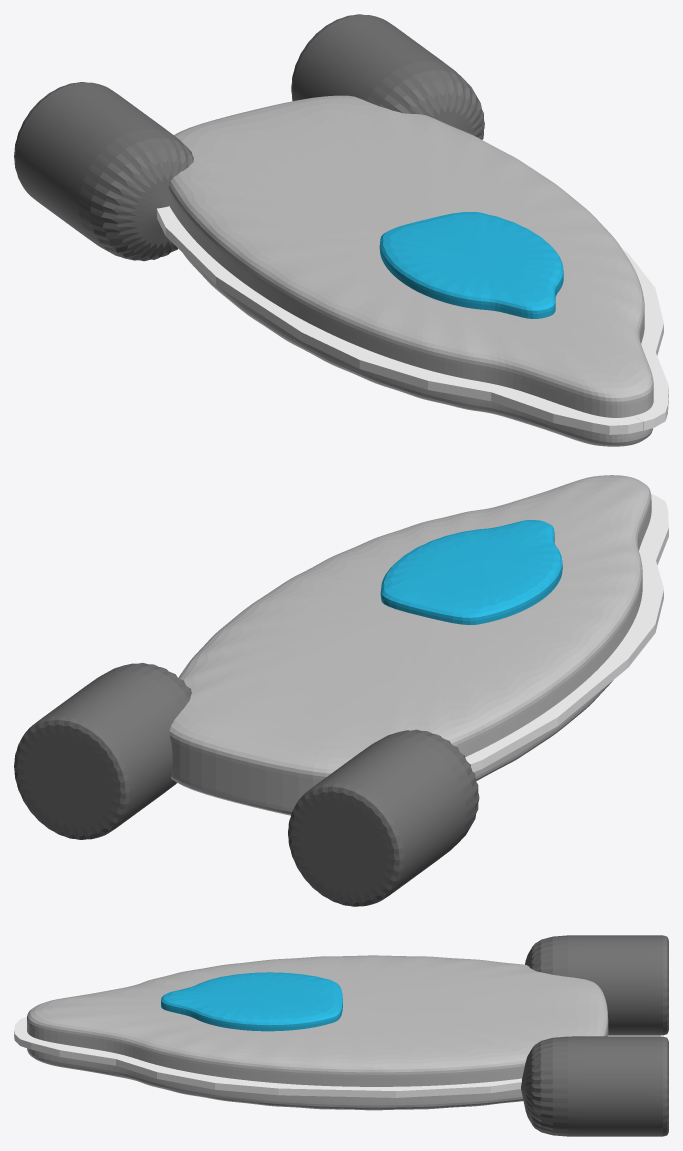
The model's file is player1Model.fbx.
3 renders of one model, top to bottom at view 1: azimuth 30°, elevation 25°; view 2: azimuth 150°, elevation 25°; view 3: azimuth 270°, elevation 25°, orthographic. The views are drawn at different scales.
Parts seen in each view (by area): view 1: Ship Body, Thruster R, Cockpit, Thruster L, Glowing Rim; view 2: Ship Body, Thruster R, Thruster L, Cockpit, Glowing Rim; view 3: Ship Body, Thruster L, Thruster R, Cockpit, Glowing Rim.
Part boxes in pixels (box(x1,y1,x2,y2)): Ship Body: box(168, 95, 653, 446); Thruster R: box(14, 82, 193, 261); Cockpit: box(379, 212, 563, 318); Thruster L: box(291, 14, 484, 139); Glowing Rim: box(156, 206, 668, 434); Ship Body: box(169, 475, 651, 815); Thruster R: box(288, 729, 479, 906); Thruster L: box(14, 662, 191, 839); Cockpit: box(380, 520, 562, 624); Glowing Rim: box(465, 494, 668, 772); Ship Body: box(27, 955, 608, 1110); Thruster L: box(521, 1036, 668, 1136); Thruster R: box(525, 935, 668, 1035); Cockpit: box(161, 972, 342, 1031); Glowing Rim: box(14, 1017, 521, 1097).
Bounding box in the file's own units: 146 × 43.27 × 282.
